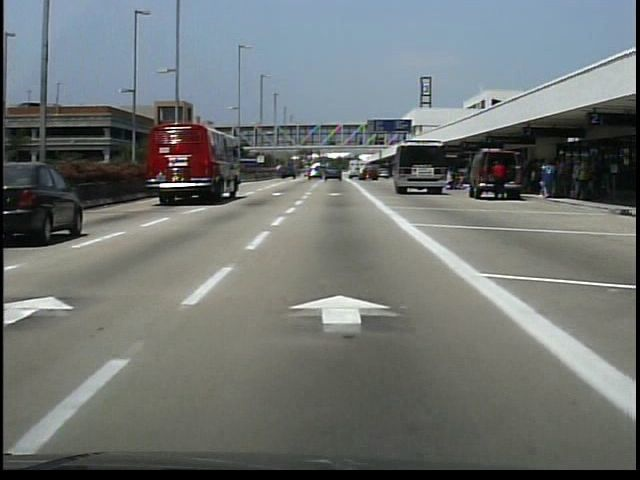person: (490, 160, 508, 206), (443, 171, 463, 195)
